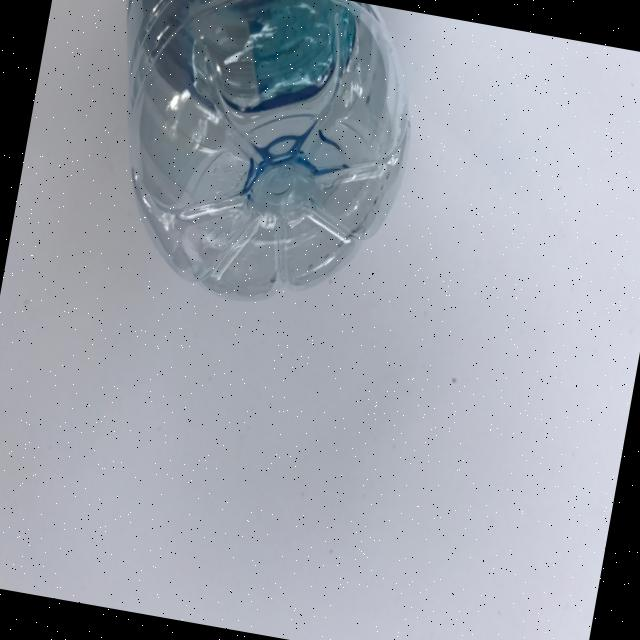plastic: (70, 0, 433, 324)
